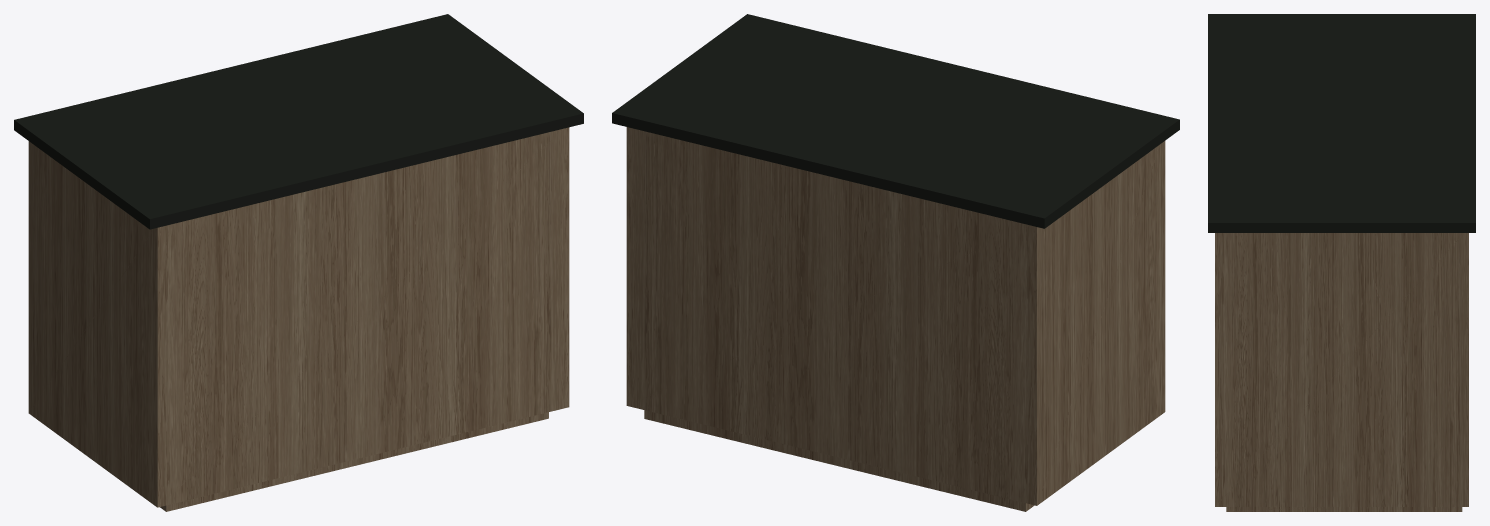
File: CounterV1.glb
3 views of the same model, side by side, from view 1: azimuth 30°, elevation 25°; view 2: azimuth 150°, elevation 25°; view 3: azimuth 270°, elevation 25° (orthographic).
Parts seen in each view (by area): view 1: Plane.041; view 2: Plane.041; view 3: Plane.041.
Boxes of the visible parts, x1,y1,x2,y2 form: Plane.041: [14, 14, 583, 511]; Plane.041: [612, 14, 1179, 511]; Plane.041: [1208, 14, 1475, 511].
Bounding box in the file's own units: 1.47 × 0.9862 × 0.7938.
2 materials, 1 textured.
